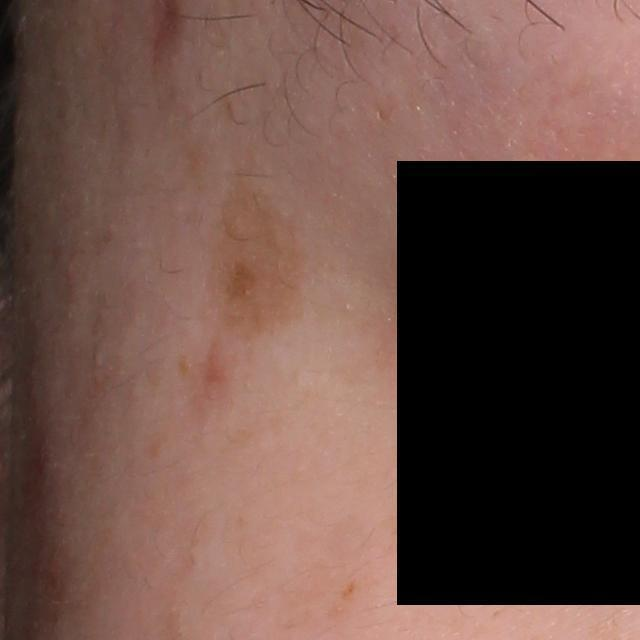melasma: (206, 189, 306, 335)
